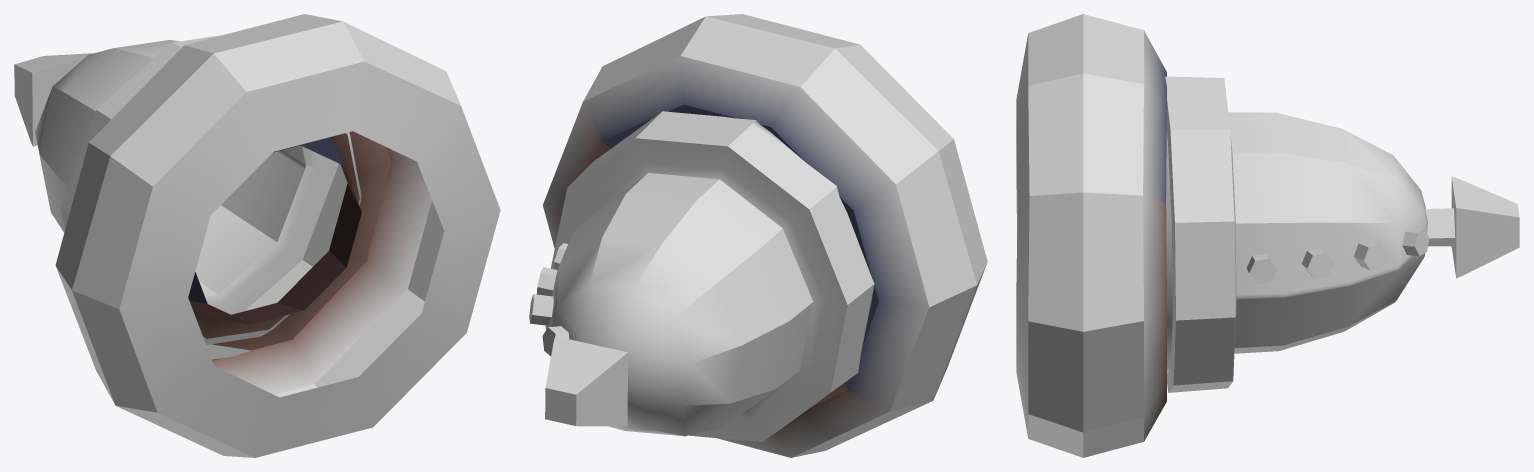
The model's file is platformBuoy.fbx.
The picture shows the model from 3 angles, left to right: view 1: azimuth 30°, elevation 25°; view 2: azimuth 150°, elevation 25°; view 3: azimuth 270°, elevation 25°; orthographic projection. The views are drawn at different scales.
Parts seen in each view (by area): view 1: platformBuoy; view 2: platformBuoy; view 3: platformBuoy.
Part boxes in pixels (left/top/right/bottom): platformBuoy: left=14, top=14, right=500, bottom=457; platformBuoy: left=529, top=14, right=987, bottom=457; platformBuoy: left=1016, top=14, right=1519, bottom=457.
Size of the model in its own units: 142 by 131 by 156.
